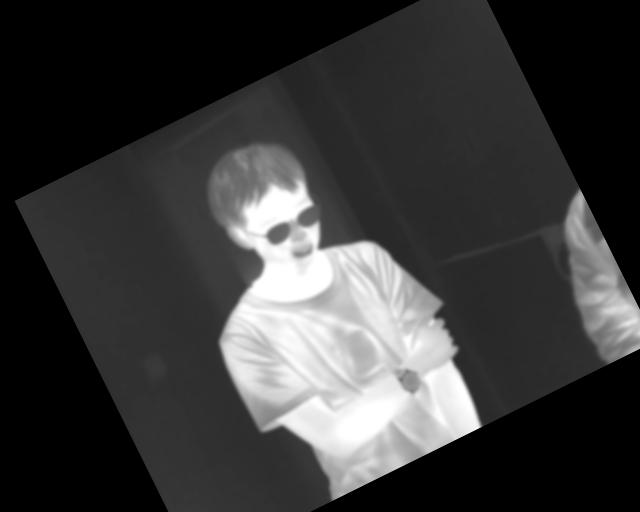face: (189, 123, 344, 293)
